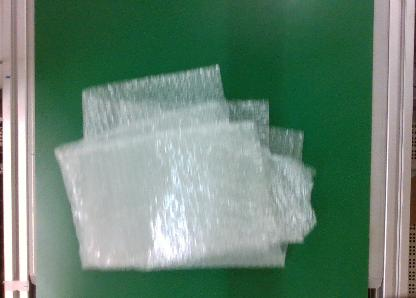Others: (44, 62, 320, 272)
